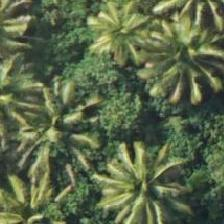coconut_tree: (119, 17, 209, 107), (110, 144, 200, 223)
